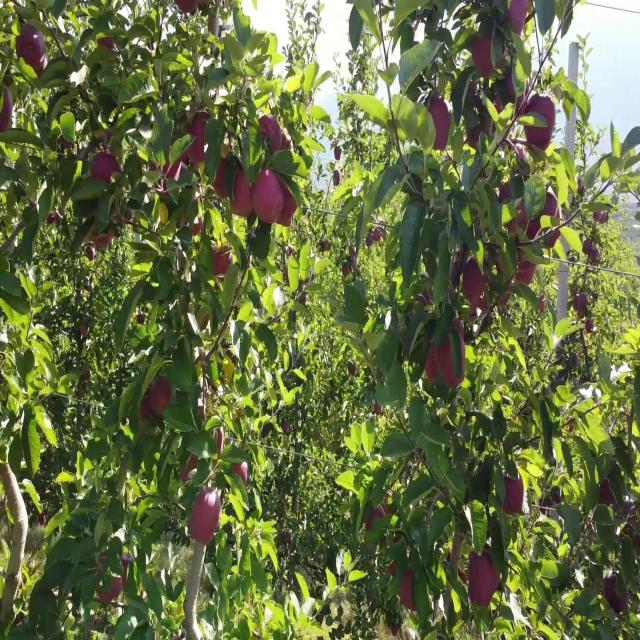apple: (460, 547, 501, 610), (524, 92, 556, 151), (16, 21, 47, 76), (440, 327, 466, 391), (192, 490, 223, 540), (100, 554, 130, 604), (256, 170, 282, 226), (472, 35, 504, 80), (188, 504, 220, 548), (428, 99, 452, 151), (460, 263, 486, 311), (92, 149, 123, 187), (508, 206, 540, 242), (232, 170, 255, 220), (188, 113, 209, 167), (148, 376, 173, 418), (108, 554, 129, 604), (604, 575, 628, 617), (260, 113, 283, 155), (496, 255, 512, 309), (504, 476, 524, 519), (544, 199, 561, 249), (276, 191, 297, 228), (508, 0, 529, 36), (368, 504, 390, 537), (400, 568, 416, 612), (100, 575, 124, 604), (112, 199, 133, 228), (524, 207, 541, 242), (212, 248, 232, 277), (424, 348, 440, 384), (180, 455, 199, 485), (216, 156, 228, 201), (92, 227, 114, 251), (464, 120, 481, 151), (544, 191, 559, 226), (508, 135, 526, 164), (164, 156, 182, 185), (572, 291, 590, 318), (192, 305, 210, 332), (600, 476, 615, 507), (4, 85, 13, 130), (232, 462, 248, 487), (584, 241, 600, 265), (528, 213, 541, 242), (496, 184, 513, 206), (520, 263, 536, 286), (176, 0, 198, 14), (416, 291, 433, 309), (100, 35, 115, 55), (140, 398, 153, 421), (48, 213, 61, 228), (192, 220, 204, 236), (348, 362, 356, 377)
